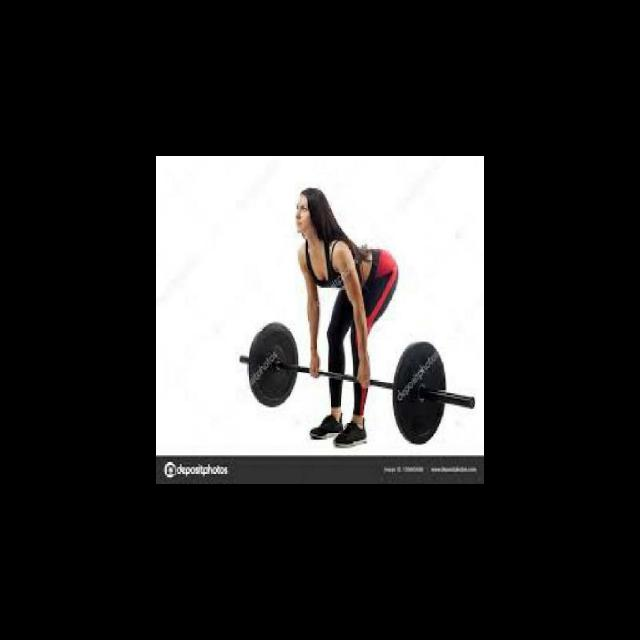barbell: (391, 333, 450, 447)
